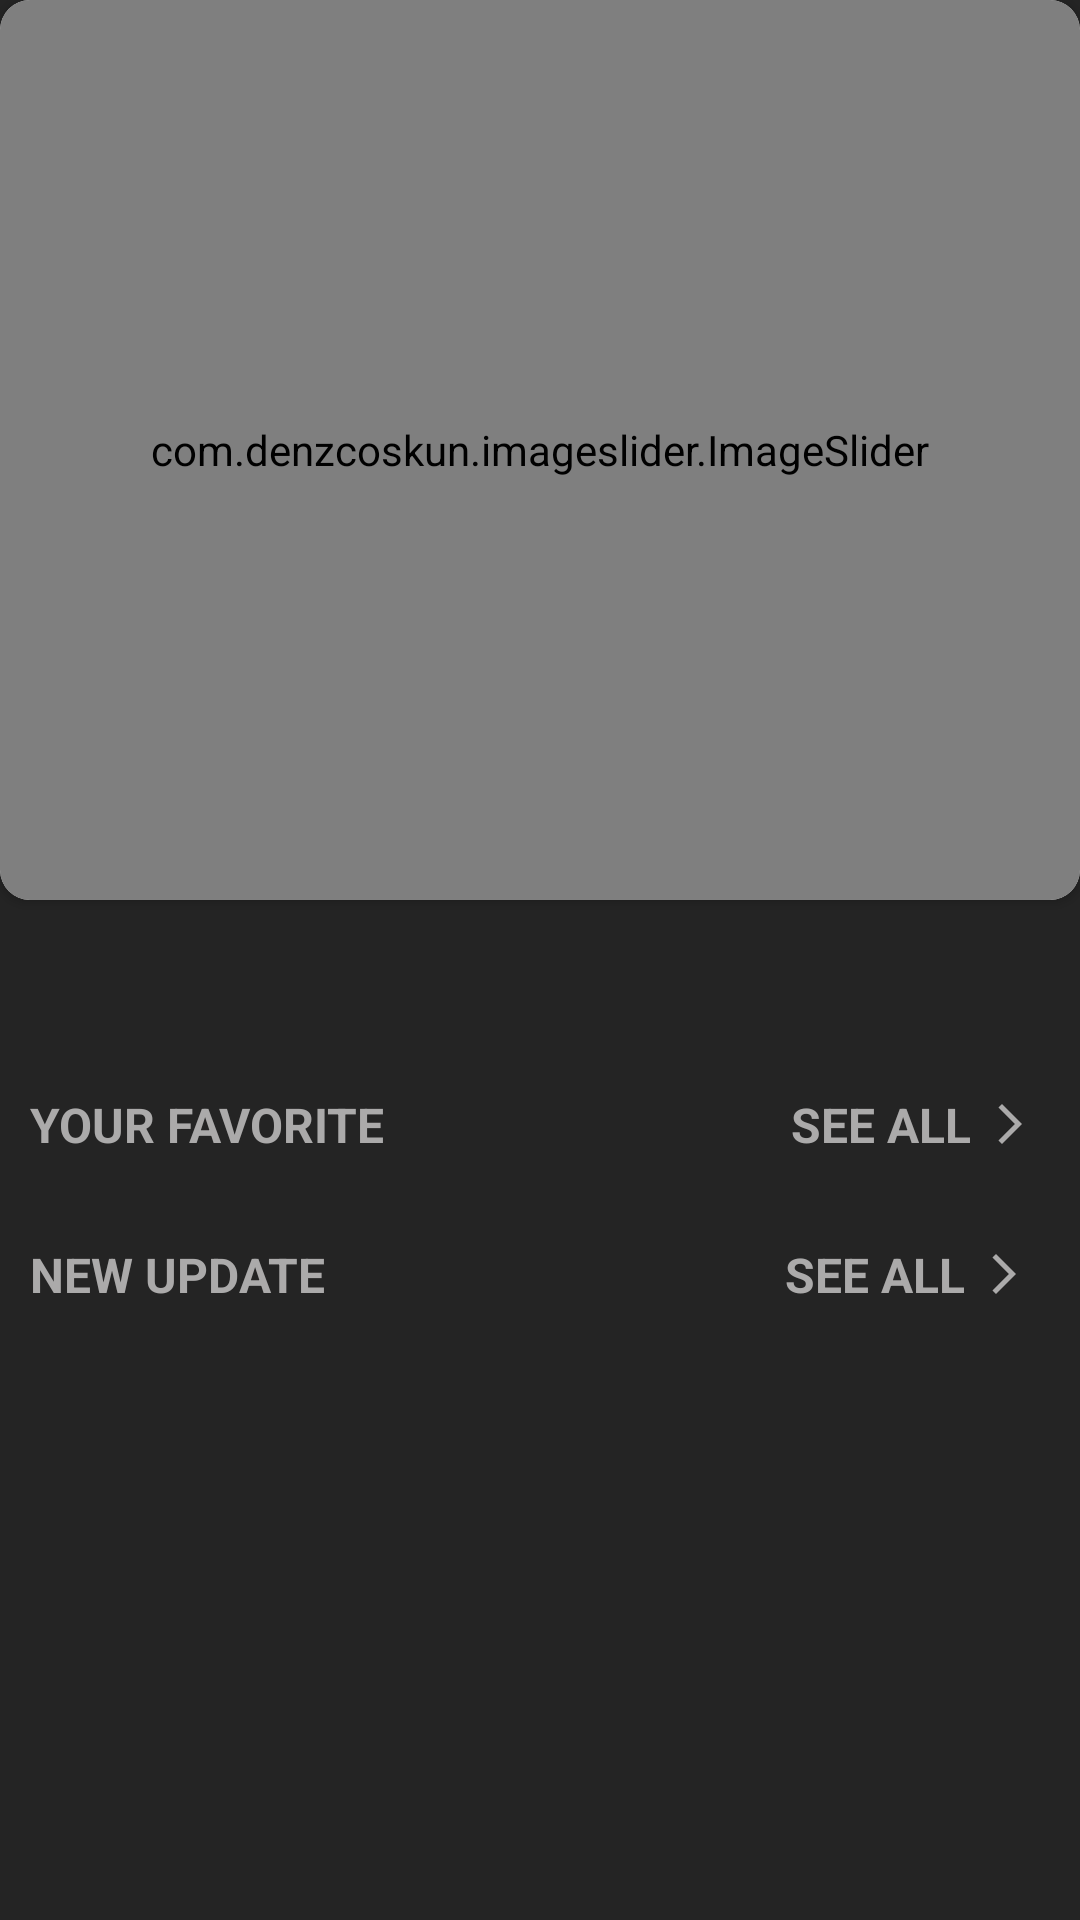

Icon click points for this 1080 x 1920 phone screenshot, format [x,y]:
arrow next: [1010,1124], [1004,1274]
